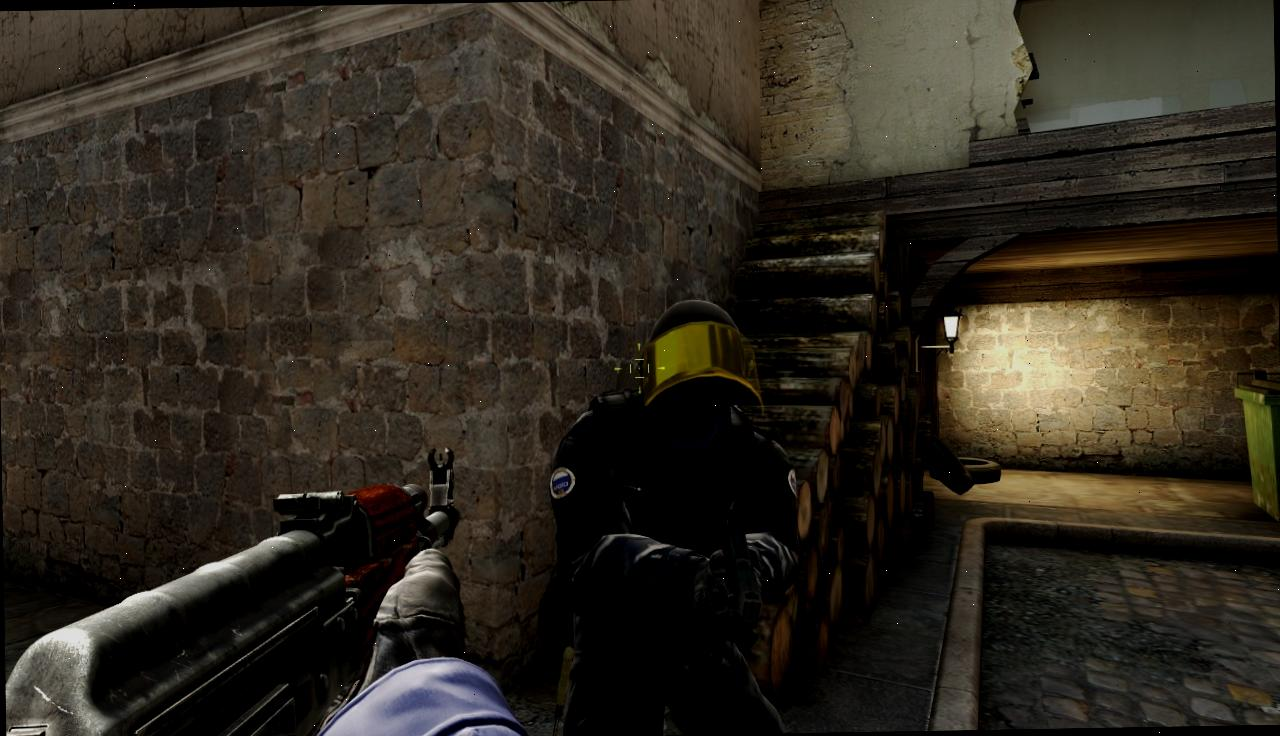ct: (562, 293, 780, 736)
cthead: (649, 299, 748, 428)
rifle: (1, 439, 466, 736)
